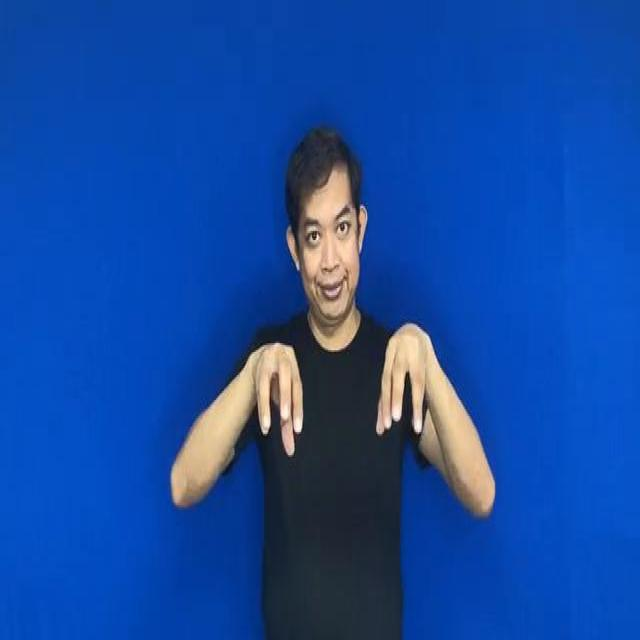egg: (227, 288, 440, 466)
